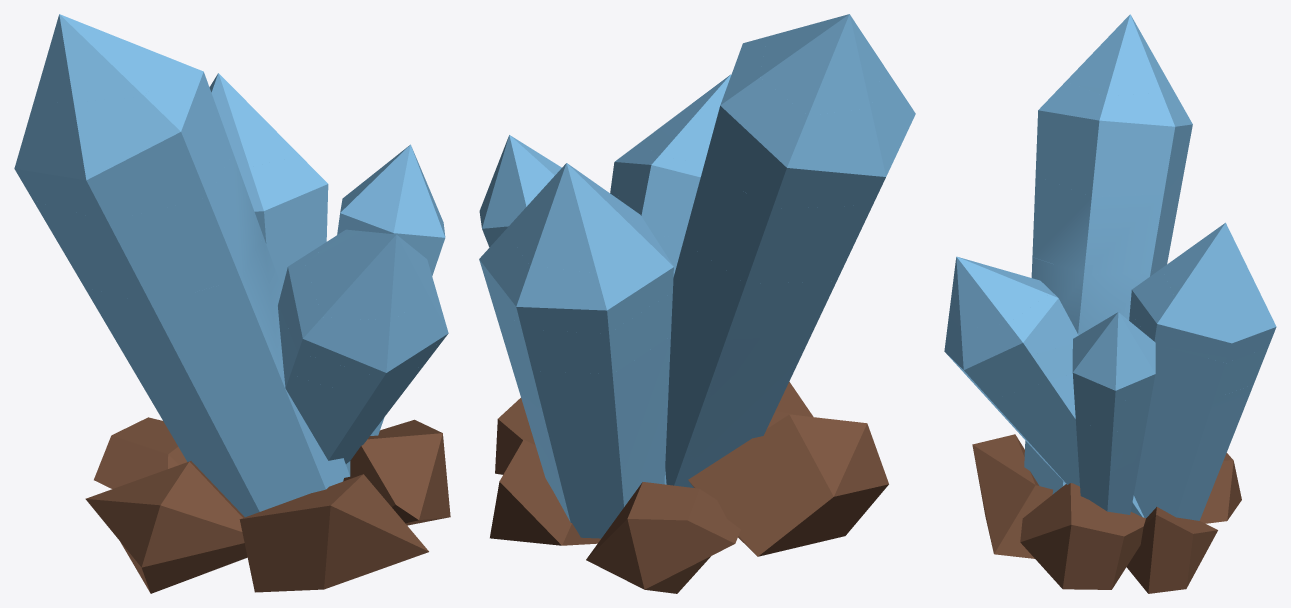
Rendered from Gems.fbx.
The picture shows the model from 3 angles, left to right: view 1: azimuth 30°, elevation 25°; view 2: azimuth 150°, elevation 25°; view 3: azimuth 270°, elevation 25°; orthographic projection. The views are drawn at different scales.
Parts seen in each view (by area): view 1: gems.002, gems.006, gems.004, gems.001, gems.003, gems.005; view 2: gems.002, gems.004, gems.006, gems.001, gems.003, gems.005; view 3: gems.002, gems.006, gems.003, gems.004, gems.001, gems.005.
Boxes of the visible parts, x1,y1,x2,y2 form: gems.002: (14,59,448,378); gems.006: (85,417,450,593); gems.004: (84,237,425,517); gems.001: (33,14,445,320); gems.003: (33,153,443,399); gems.005: (145,388,406,516); gems.002: (479,37,915,333); gems.004: (500,242,836,537); gems.006: (490,382,888,593); gems.001: (479,14,884,272); gems.003: (487,167,872,374); gems.005: (519,340,793,538); gems.002: (944,81,1276,406); gems.006: (972,434,1241,593); gems.003: (953,171,1267,433); gems.004: (974,256,1253,520); gems.001: (949,14,1261,390); gems.005: (1015,413,1237,518).
Bounding box in the file's own units: 110 × 147 × 95.87.
